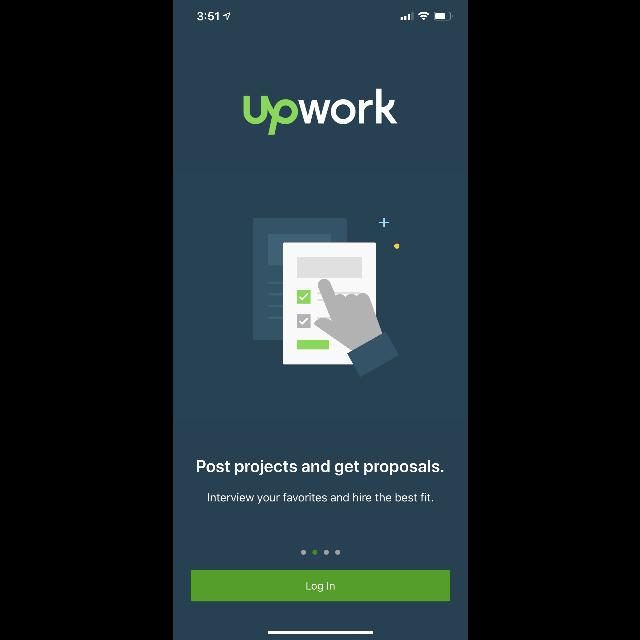image: (252, 218, 400, 376), (243, 89, 397, 135)
pageindicator: (300, 550, 340, 554)
text: (196, 460, 444, 476), (208, 492, 432, 503)
textbutton: (190, 570, 450, 602)
uppertaskbar: (196, 12, 452, 21)
